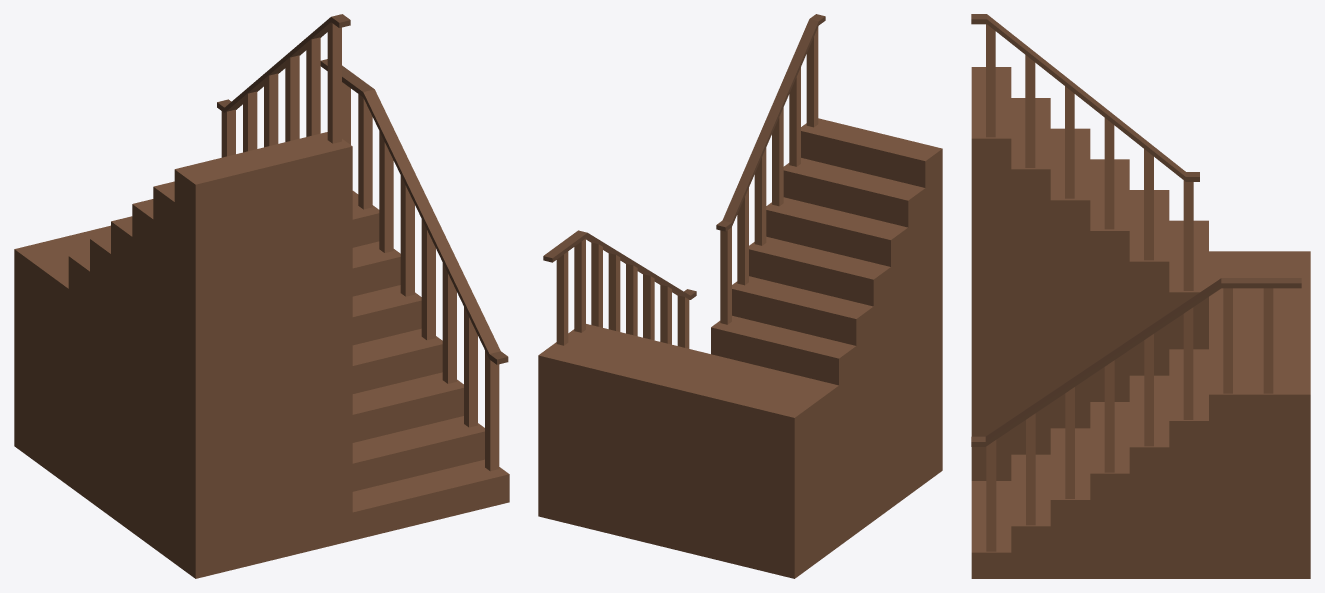
The model's file is Stairs1_C1.fbx.
3 views of the same model, side by side, from view 1: azimuth 30°, elevation 25°; view 2: azimuth 150°, elevation 25°; view 3: azimuth 270°, elevation 25° (orthographic). The views are drawn at different scales.
Parts seen in each view (by area): view 1: Stairs1_C1; view 2: Stairs1_C1; view 3: Stairs1_C1.
Part boxes in pixels (left/top/right/bottom): Stairs1_C1: left=14, top=14, right=509, bottom=578; Stairs1_C1: left=538, top=14, right=942, bottom=578; Stairs1_C1: left=971, top=14, right=1310, bottom=578.
Size of the model in its own units: 250 by 397 by 250.
